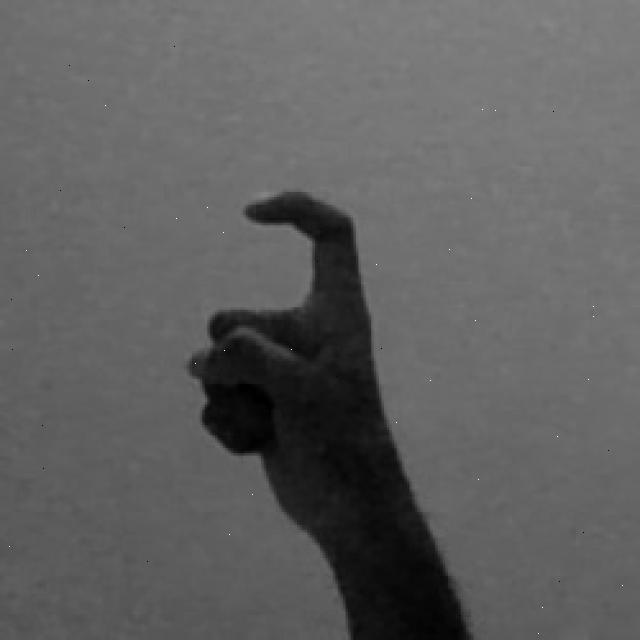X: (180, 184, 475, 640)
